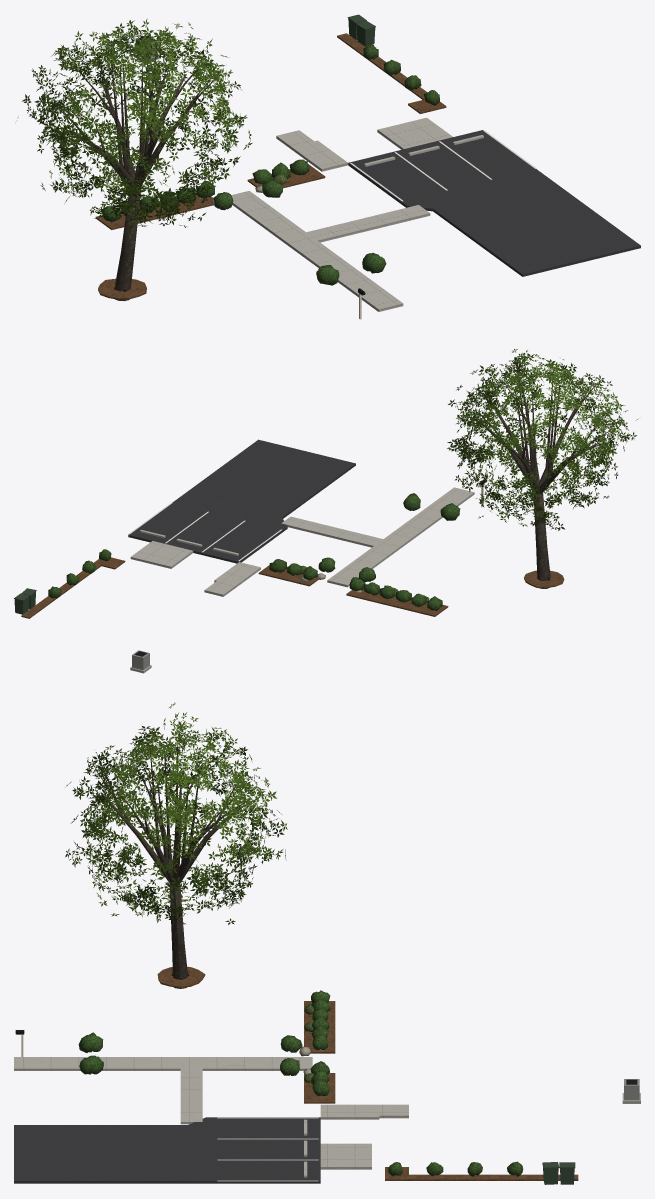
The model's file is patel-house-lot.glb.
3 views of the same model, one above another, from view 1: azimuth 30°, elevation 25°; view 2: azimuth 150°, elevation 25°; view 3: azimuth 270°, elevation 25° (orthographic). The views are drawn at different scales.
Parts seen in each view (by area): view 1: Lot_Hardscape, Tree_Elm_1, Lot_Beds, Lot_Props; view 2: Lot_Hardscape, Tree_Elm_1, Lot_Beds, Lot_Props; view 3: Lot_Hardscape, Tree_Elm_1, Lot_Beds, Lot_Props.
Part boxes in pixels (x1,y1,x2,y2): Lot_Hardscape: (231,117,640,311); Tree_Elm_1: (17,18,252,301); Lot_Beds: (95,33,446,299); Lot_Props: (134,14,375,319); Lot_Hardscape: (128,439,474,596); Tree_Elm_1: (447,349,637,588); Lot_Beds: (21,493,564,618); Lot_Props: (14,479,486,673); Lot_Hardscape: (14,1057,408,1183); Tree_Elm_1: (65,702,287,988); Lot_Beds: (78,966,578,1180); Lot_Props: (15,1030,640,1184).
Bounding box in the file's own units: 31.95 × 16.03 × 34.04.
14 materials, 9 textured.
